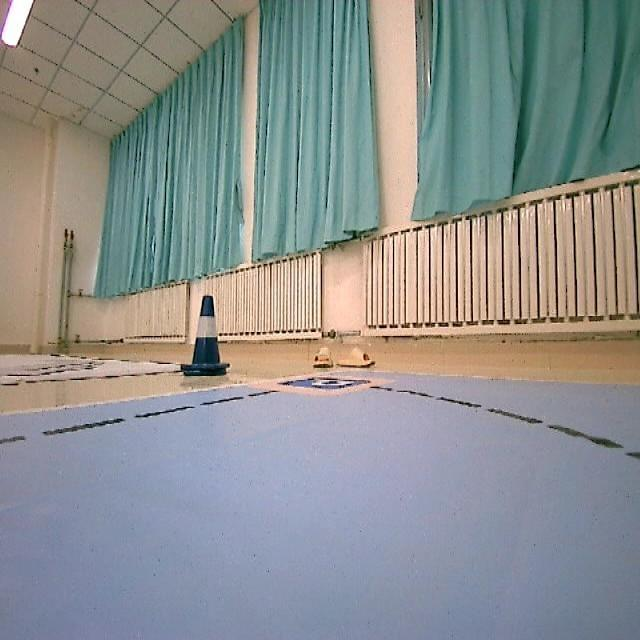obstacle: (177, 291, 234, 380)
